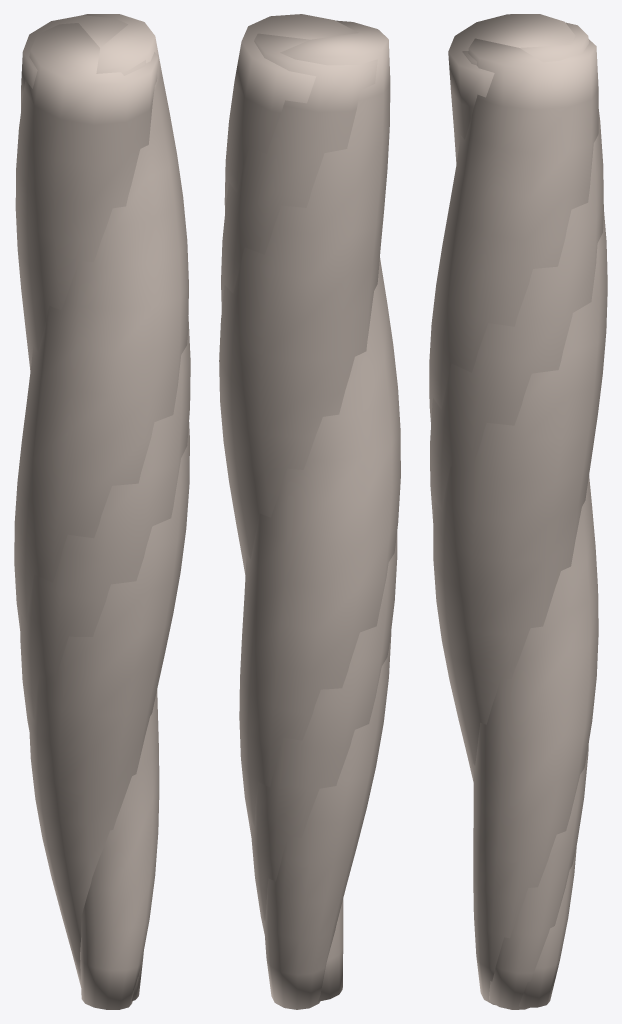
The model's file is sugar-mist.glb.
The picture shows the model from 3 angles, left to right: view 1: azimuth 30°, elevation 25°; view 2: azimuth 150°, elevation 25°; view 3: azimuth 270°, elevation 25°; orthographic projection.
Parts seen in each view (by area): view 1: Diffusing sugar mist, Diffusing sugar mist.002, Diffusing sugar mist.001; view 2: Diffusing sugar mist.002, Diffusing sugar mist, Diffusing sugar mist.001; view 3: Diffusing sugar mist, Diffusing sugar mist.002, Diffusing sugar mist.001.
Boxes of the visible parts, x1,y1,x2,y2 form: Diffusing sugar mist: [14, 14, 188, 1009]; Diffusing sugar mist.002: [15, 23, 189, 987]; Diffusing sugar mist.001: [20, 15, 190, 1000]; Diffusing sugar mist.002: [219, 20, 391, 1009]; Diffusing sugar mist: [224, 14, 400, 1001]; Diffusing sugar mist.001: [221, 33, 397, 933]; Diffusing sugar mist: [429, 38, 598, 1005]; Diffusing sugar mist.002: [433, 14, 607, 1007]; Diffusing sugar mist.001: [430, 22, 603, 1009].
Size of the model in its own units: 1.2 by 7.07 by 1.2.
